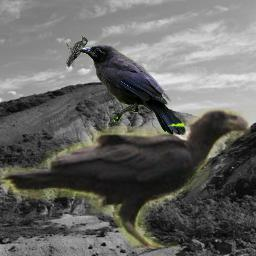Crow: (0, 108, 251, 249), (78, 44, 186, 136)
Woodpecker: (66, 33, 88, 68)
